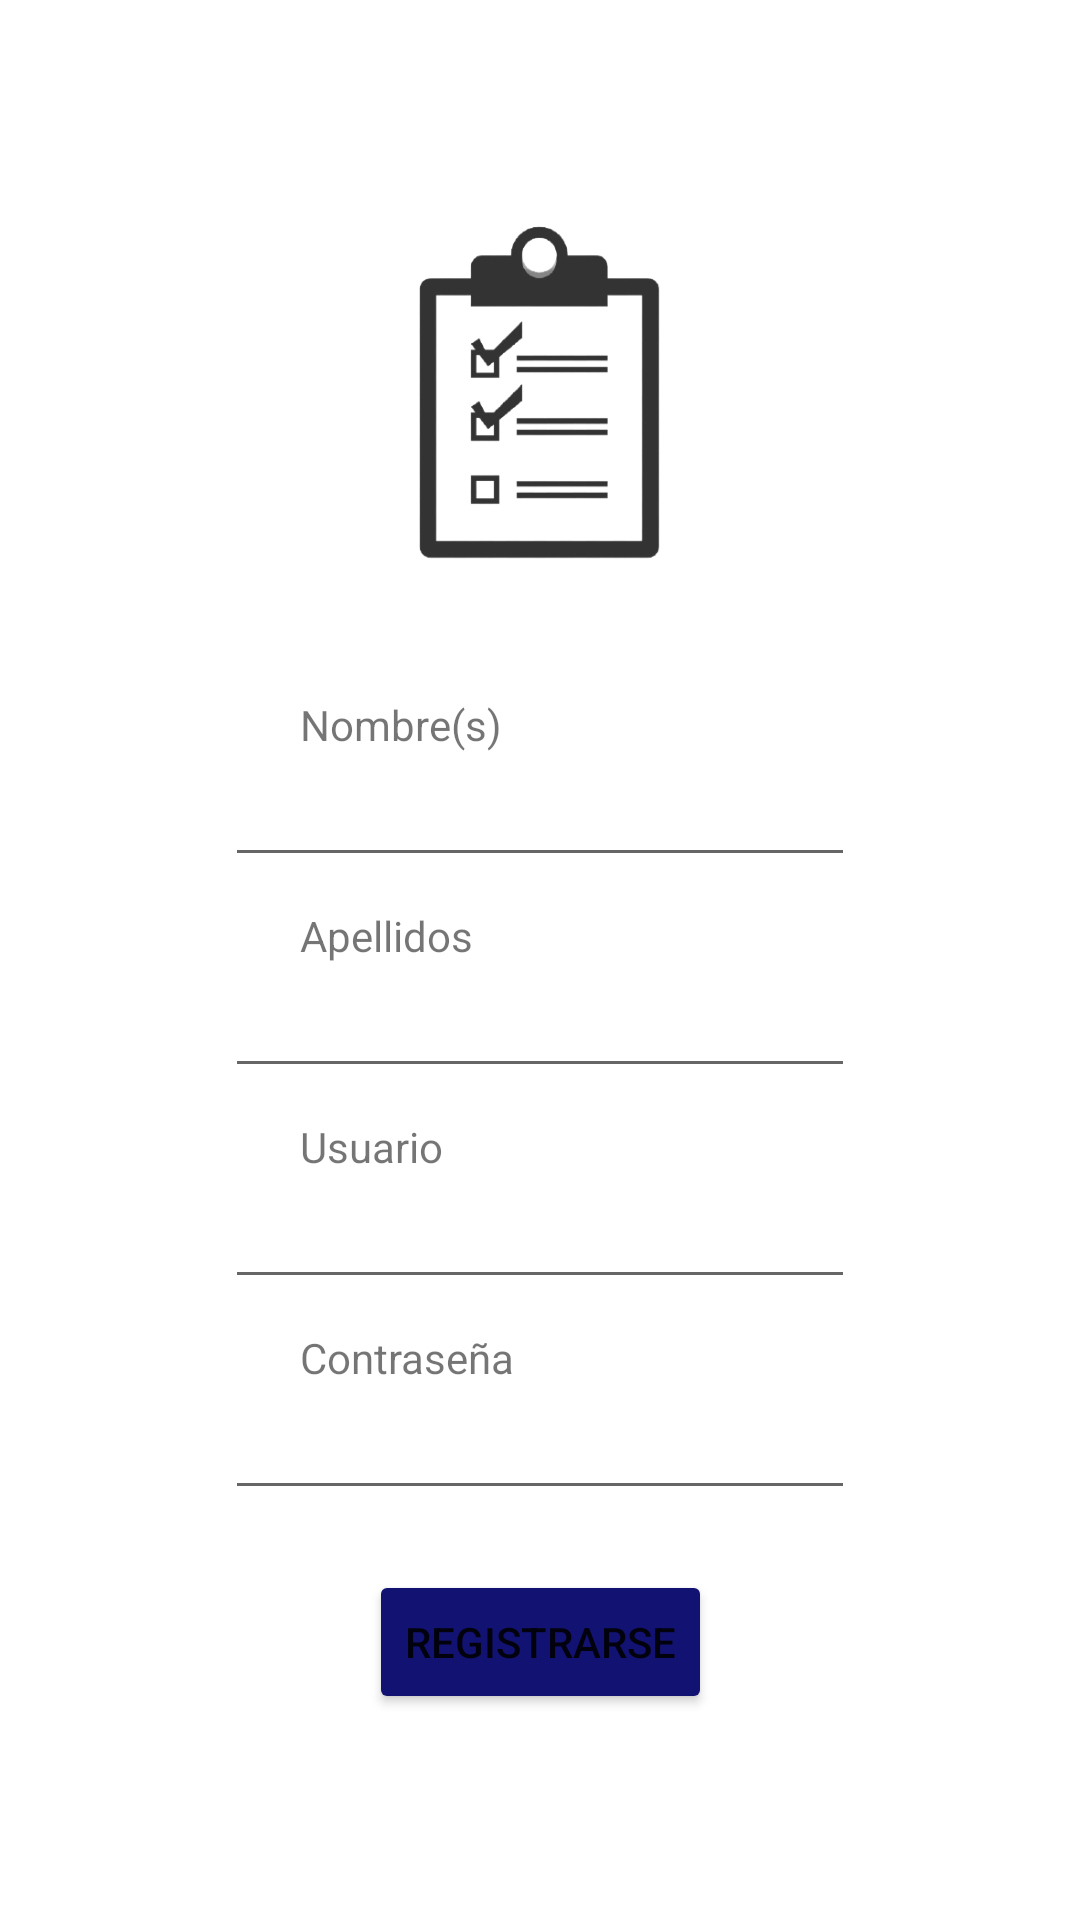

Named icons in this screenshot (1080px x 1920px) and their centers, (x,y):
signup: (539,392)
